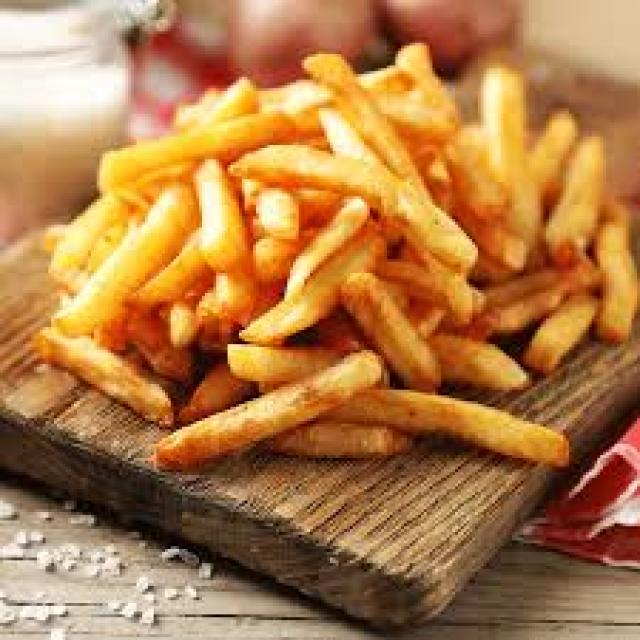fries: (45, 48, 629, 486)
